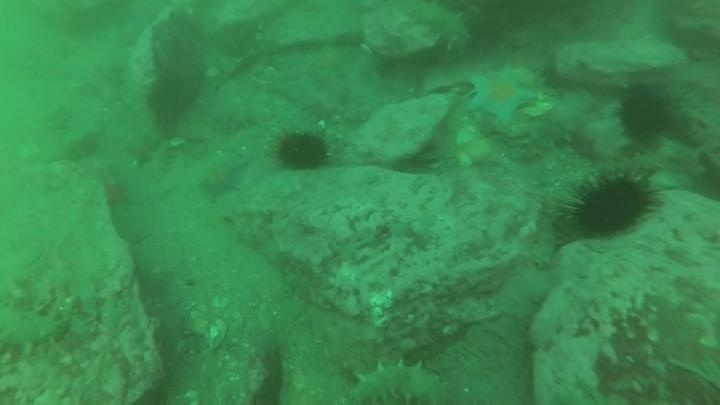echinus: (567, 171, 658, 239), (615, 85, 678, 146), (145, 69, 199, 126), (273, 128, 332, 173)
holothurian: (344, 358, 453, 405), (0, 296, 69, 356), (403, 1, 474, 56), (509, 115, 586, 163), (525, 194, 567, 271), (595, 150, 669, 183), (200, 106, 262, 137), (61, 128, 105, 164), (150, 138, 182, 183)
starfish: (464, 64, 539, 128), (197, 156, 248, 202), (100, 176, 134, 212)
